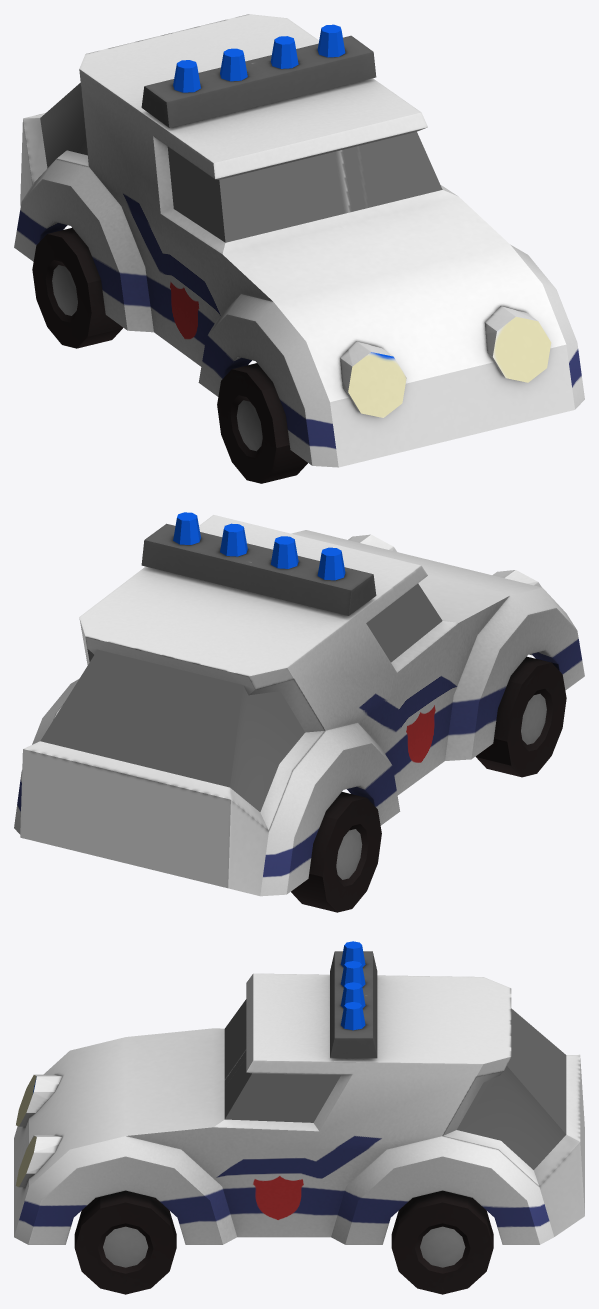
The model's file is voiture.fbx.
The picture shows the model from 3 angles, top to bottom: view 1: azimuth 30°, elevation 25°; view 2: azimuth 150°, elevation 25°; view 3: azimuth 270°, elevation 25°; orthographic projection. The views are drawn at different scales.
Parts seen in each view (by area): view 1: voiture; view 2: voiture; view 3: voiture.
Part boxes in pixels (x1,y1,x2,y2): voiture: (14,14,584,483); voiture: (14,512,584,912); voiture: (14,941,584,1294).
Bounding box in the file's own units: 171 × 170 × 340.
